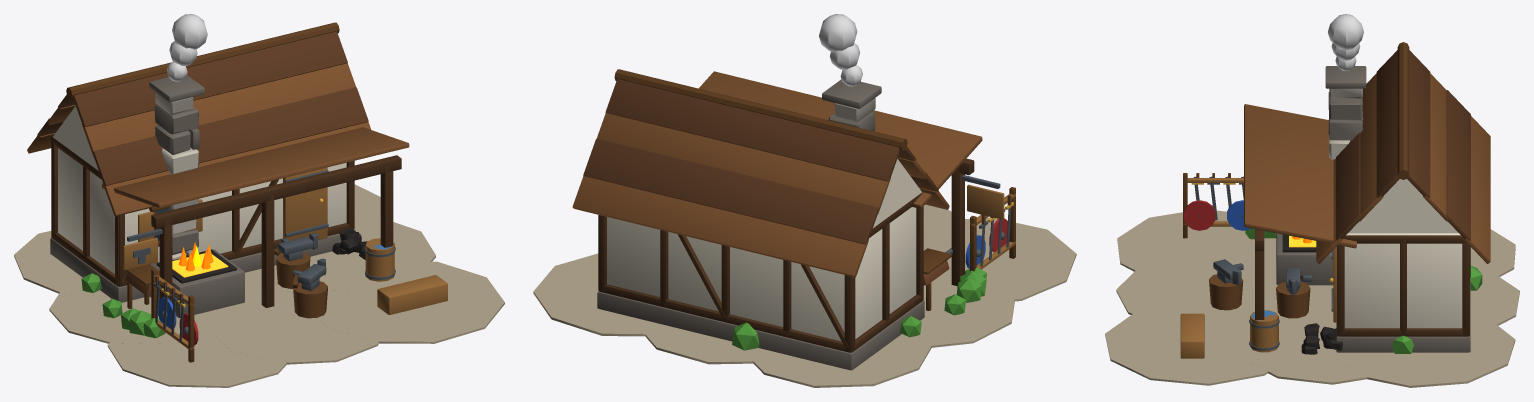
Rendered from kuznia_poz09.glb.
3 views of the same model, side by side, from view 1: azimuth 30°, elevation 25°; view 2: azimuth 150°, elevation 25°; view 3: azimuth 270°, elevation 25° (orthographic). The views are drawn at different scales.
Parts seen in each view (by area): view 1: kuznia_poz09; view 2: kuznia_poz09; view 3: kuznia_poz09.
Boxes of the visible parts, left/top/right/bottom form: kuznia_poz09: left=14, top=14, right=504, bottom=387; kuznia_poz09: left=533, top=14, right=1076, bottom=387; kuznia_poz09: left=1105, top=14, right=1519, bottom=387.
Bounding box in the file's own units: 8.78 × 6.16 × 8.65.
